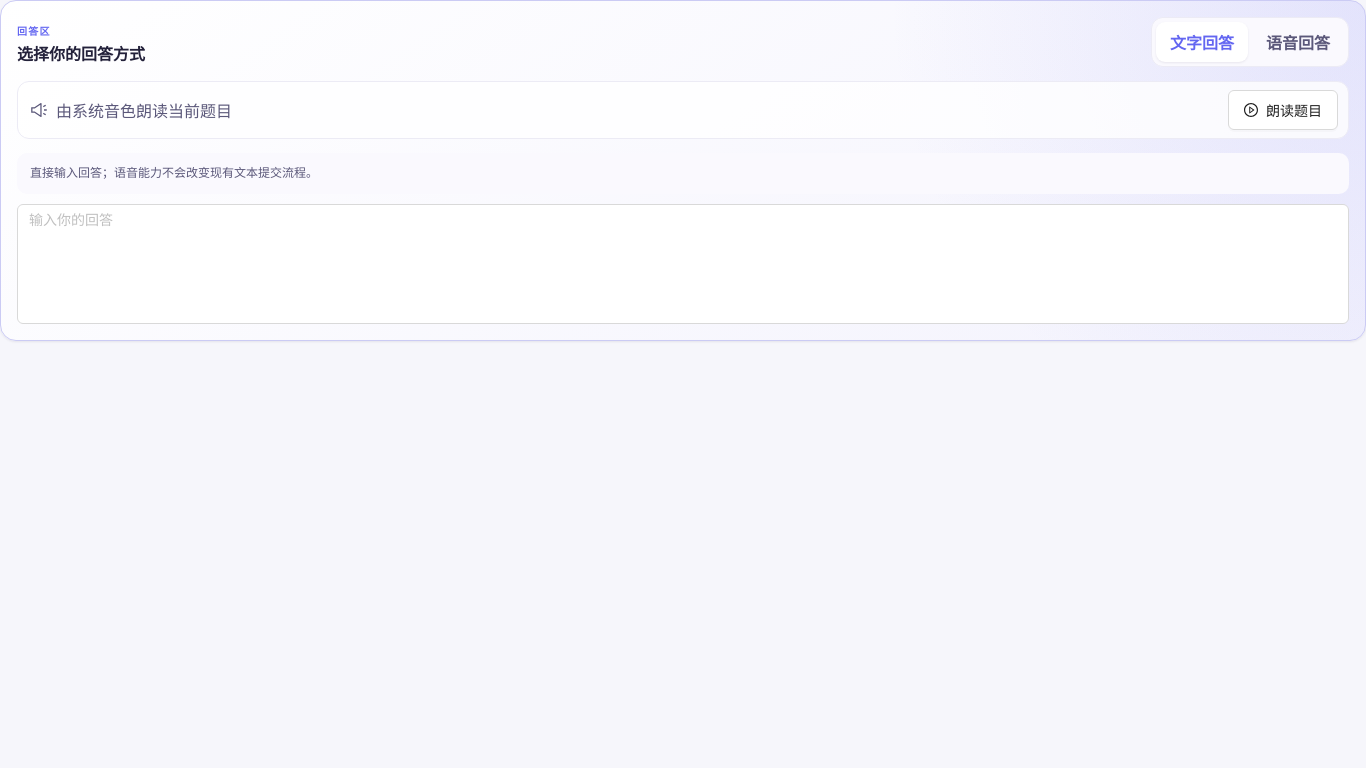
Test: VoiceAnswerComposer › falls back safely after microphone permission denial
Click the button "语音回答" at (1298,42), box [1252,22,1344,62]
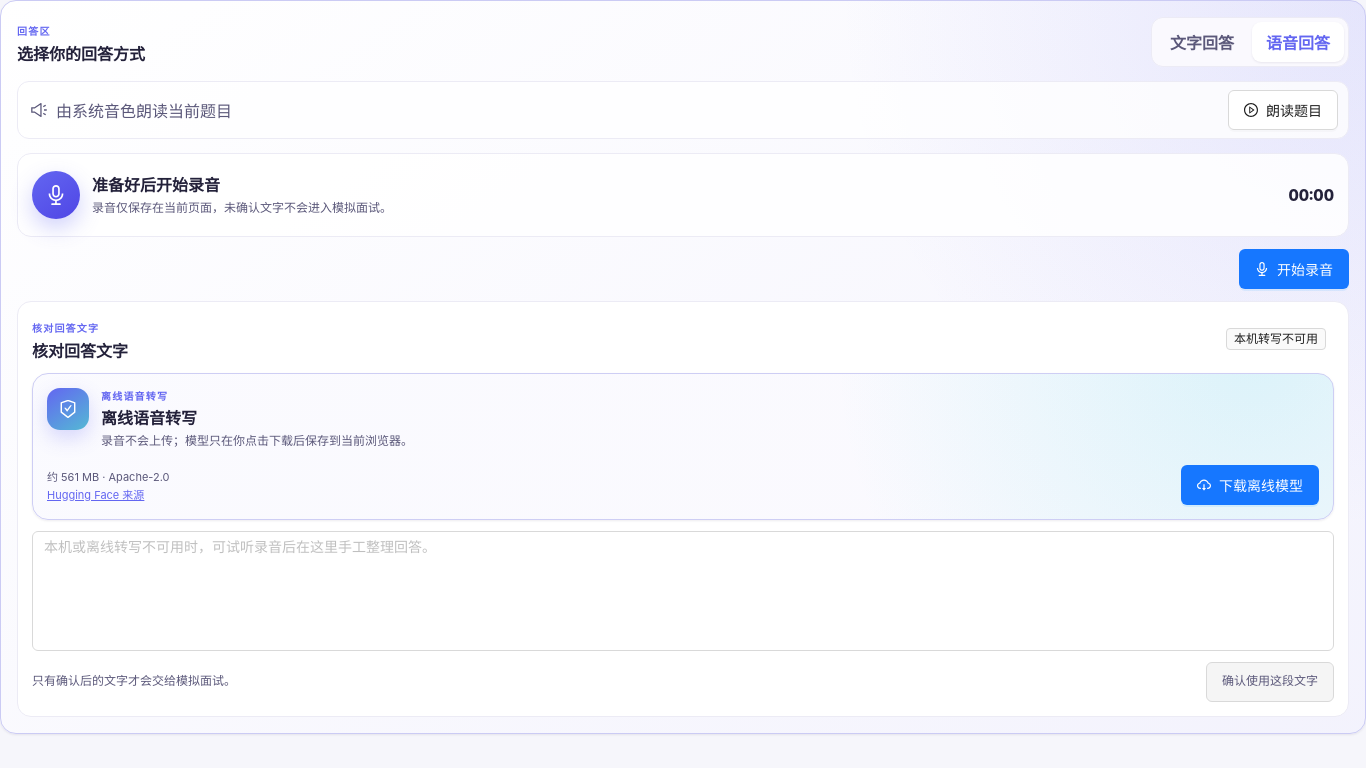
Click the button "开始录音" at (1294,269), box [1239,249,1349,289]
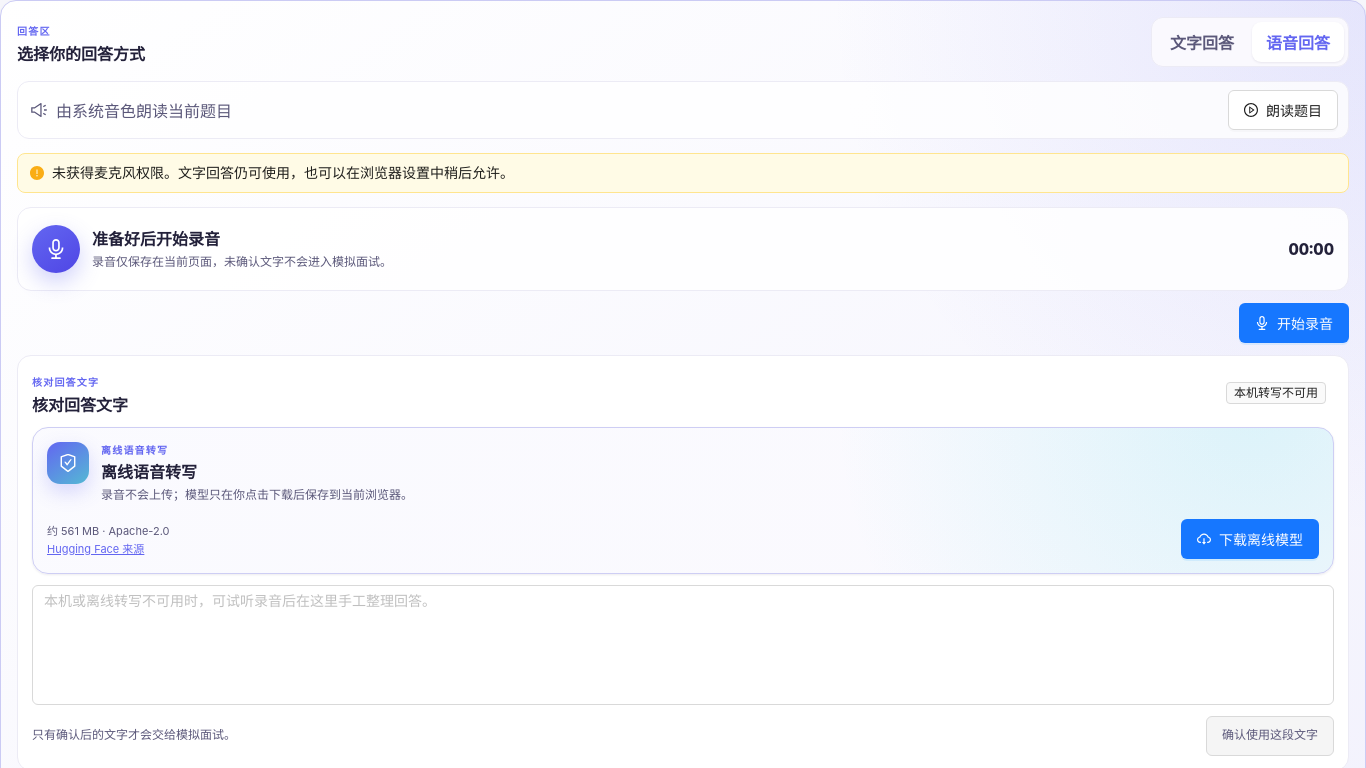
expect the text "未获得麦克风权限" is shown: met, box [52,164,514,181]
expect the text "文字回答仍可使用" is shown: met, box [52,164,514,181]
